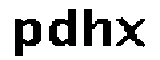d: (46, 6, 78, 50)
h: (82, 4, 113, 48)
p: (12, 14, 46, 60)
x: (114, 11, 148, 48)
